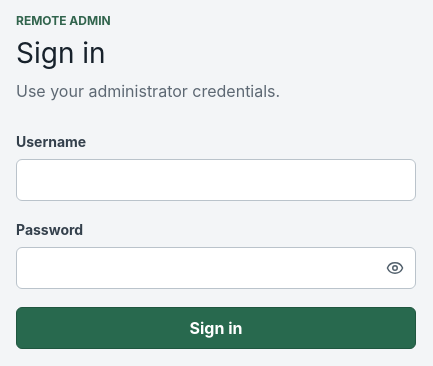
LoginView › disables a stable submit command while login is pending
Step 1. Type "admin" into the field with id "username" → coordinates (216, 180), box [16,158,416,200]
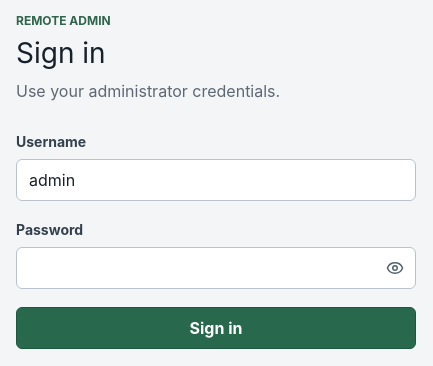
Step 2. Type "secret" into the password field with id "login-password" → coordinates (216, 268), box [16,246,416,288]
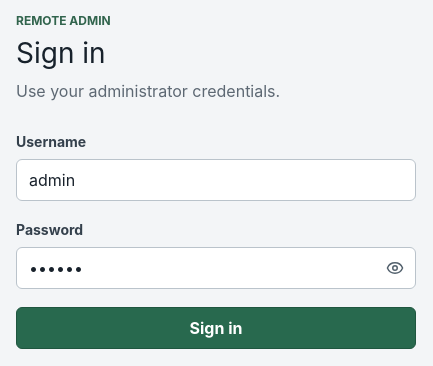
Step 3. Submit the form, box [16,130,416,348]
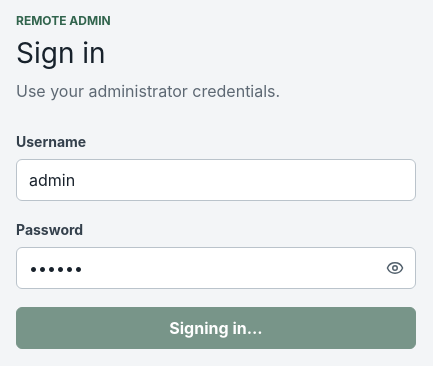
Expected: the submit button is disabled, [16,306,416,348]
Expected: the submit button reads "Signing in...", [16,306,416,348]
